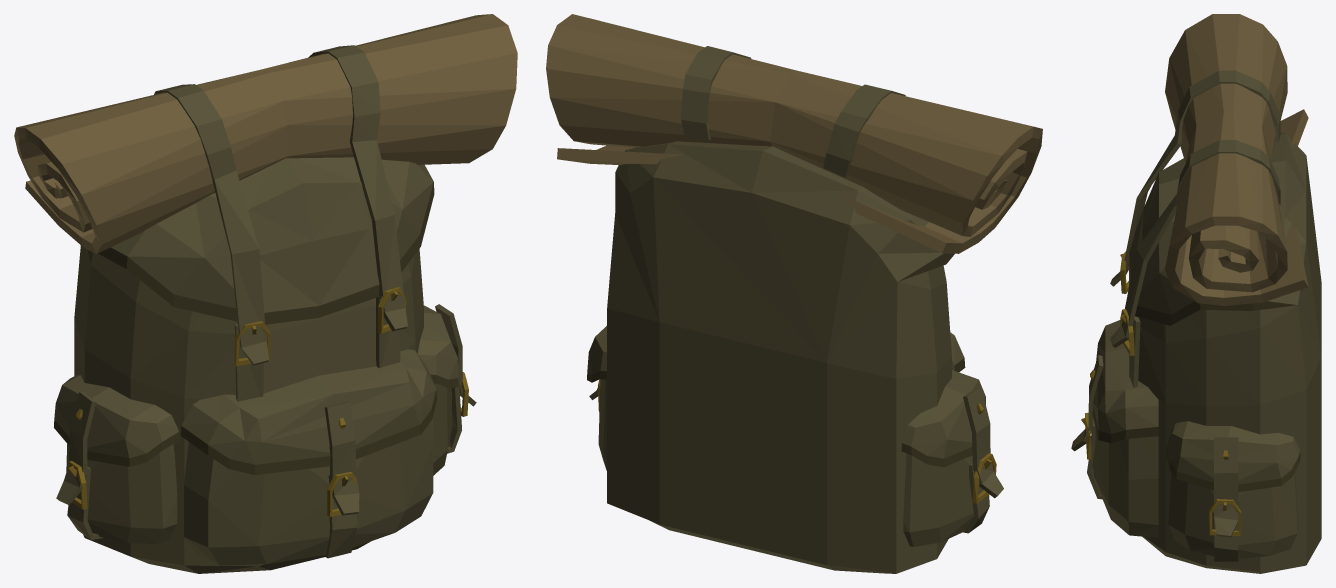
Rendered from backpack-quaternius_2g9Jm7kvIU.glb.
3 renders of one model, left to right at view 1: azimuth 30°, elevation 25°; view 2: azimuth 150°, elevation 25°; view 3: azimuth 270°, elevation 25°, orthographic. The views are drawn at different scales.
Visible parts, largest first — view 1: Backpack; view 2: Backpack; view 3: Backpack.
Boxes of the visible parts, <box> form: Backpack: <box>14,14,517,573</box>; Backpack: <box>546,14,1042,573</box>; Backpack: <box>1071,14,1321,573</box>.
Bounding box in the file's own units: 3.34 × 3.12 × 1.75.
